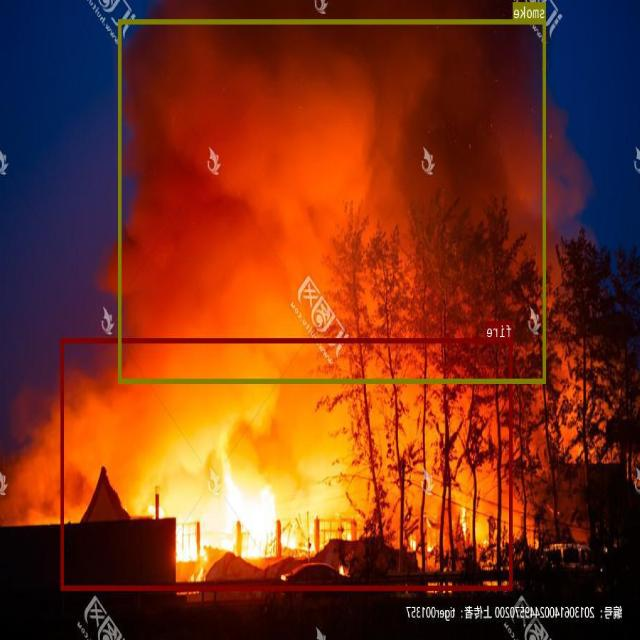fire: (62, 337, 513, 590)
smoke: (119, 19, 547, 382)
